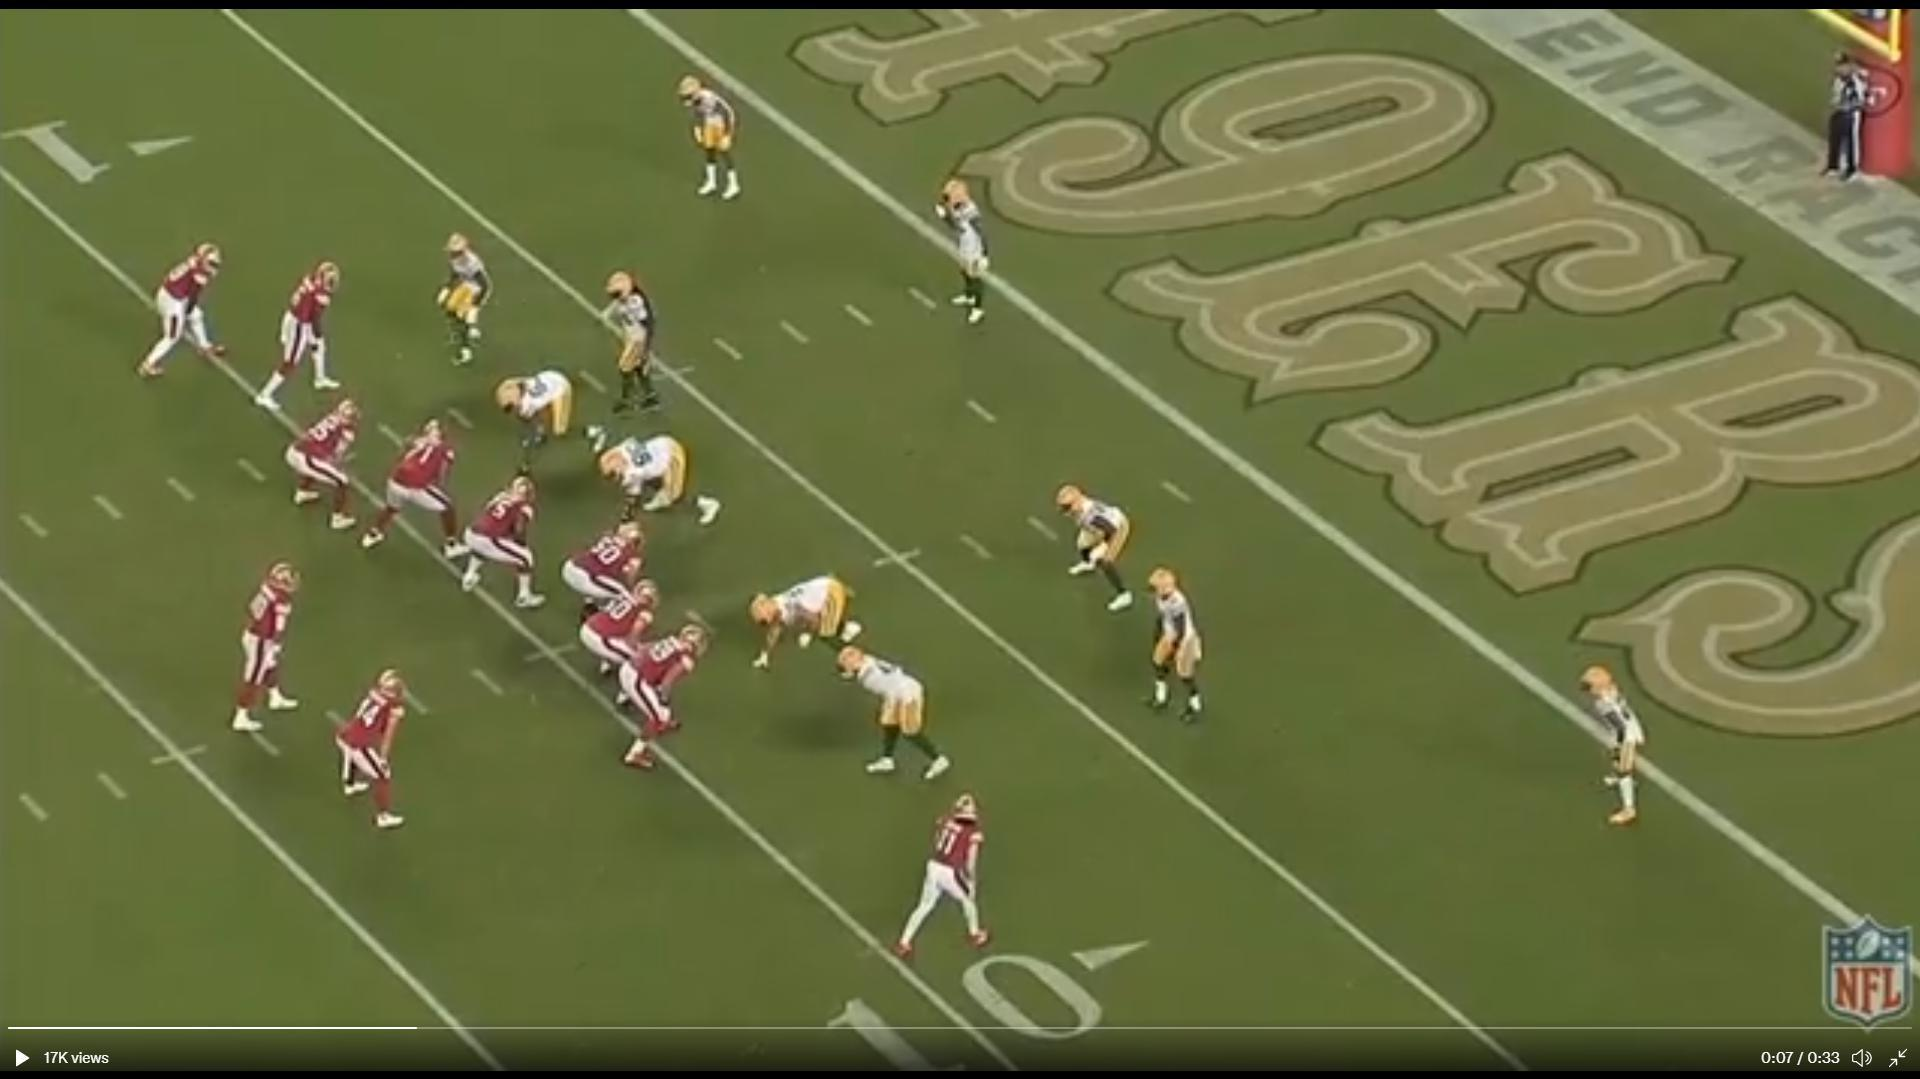player: (894, 795, 1005, 974), (838, 637, 953, 783), (611, 627, 709, 781), (590, 434, 724, 546), (364, 421, 469, 561), (250, 260, 342, 415), (1583, 661, 1660, 838), (142, 236, 232, 383), (228, 557, 303, 733), (340, 667, 418, 835), (449, 476, 543, 614), (748, 569, 868, 671), (1143, 561, 1213, 735), (278, 400, 363, 541), (1049, 483, 1133, 621), (500, 372, 619, 462), (596, 271, 664, 421), (680, 70, 750, 210), (939, 177, 1000, 337), (584, 577, 664, 698), (558, 523, 649, 619), (433, 229, 494, 370)
ref: (1814, 50, 1873, 184)
